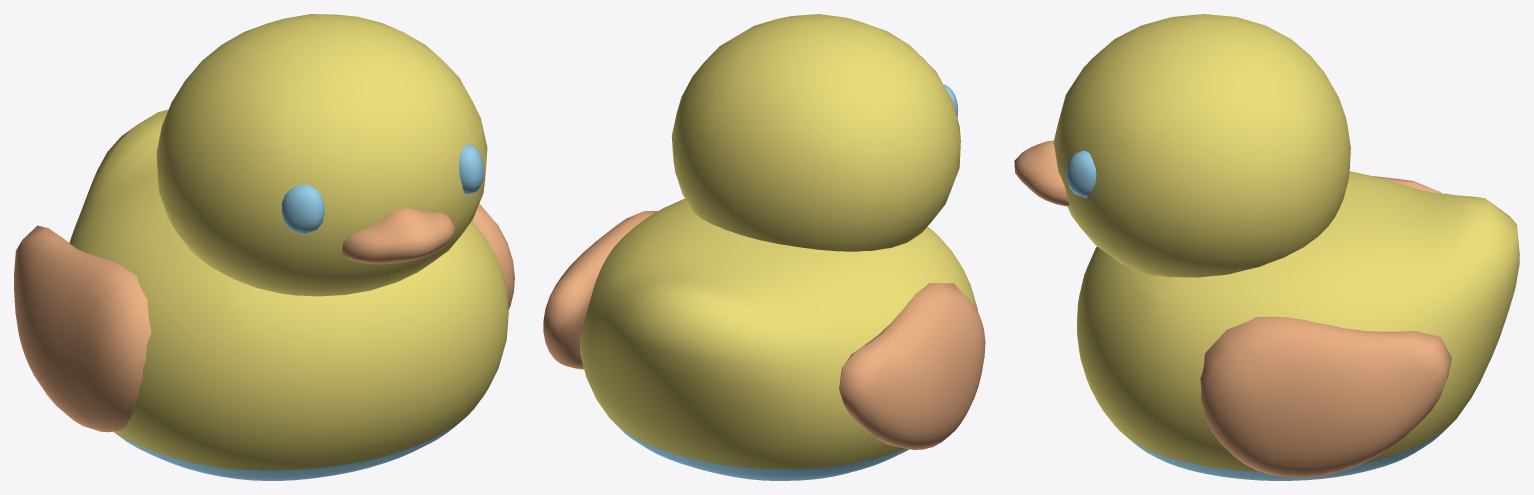
File: Duck (1).fbx
The picture shows the model from 3 angles, left to right: view 1: azimuth 30°, elevation 25°; view 2: azimuth 150°, elevation 25°; view 3: azimuth 270°, elevation 25°; orthographic projection. The views are drawn at different scales.
Visible parts, largest first — view 1: body13, Head1, WingR1, Beak, eye, body12, WingL1; view 2: body13, Head1, WingR1, WingL1, body12; view 3: Head1, body13, WingL1, Beak, body12, eye.
Part boxes in pixels (x1,y1,x2,y2): body13: (69, 109, 508, 470); Head1: (156, 14, 487, 296); WingR1: (14, 225, 151, 432); Beak: (341, 207, 455, 264); eye: (281, 144, 483, 234); body12: (114, 419, 463, 480); WingL1: (472, 203, 514, 309); body13: (580, 198, 977, 469); Head1: (671, 14, 960, 251); WingR1: (839, 283, 985, 449); WingL1: (543, 211, 657, 369); body12: (617, 425, 908, 480); Head1: (1053, 14, 1350, 277); body13: (1077, 171, 1519, 471); WingL1: (1200, 317, 1451, 478); Beak: (1014, 140, 1069, 206); body12: (1128, 427, 1447, 480); eye: (1066, 150, 1096, 197).
Size of the model in its own units: 72.67 by 69.35 by 78.78.
